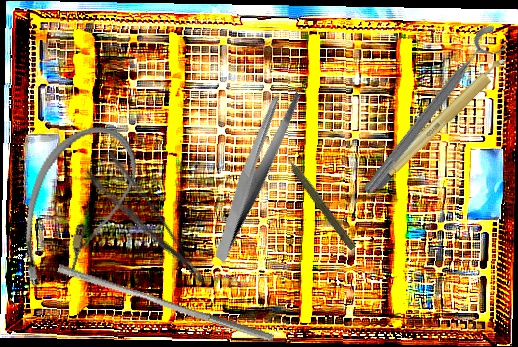Cannula: (5, 112, 148, 306)
Dressing Forceps: (174, 82, 335, 264), (82, 148, 210, 304)
Fixation Ring: (358, 20, 513, 207)
Handpiece: (278, 146, 360, 252)
Pusher: (54, 263, 278, 343)
Scalpel Handle: (368, 52, 513, 193)
